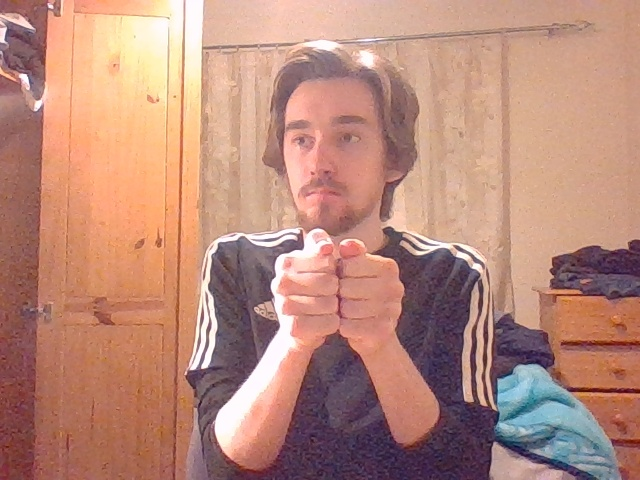brother: (271, 229, 404, 340)
